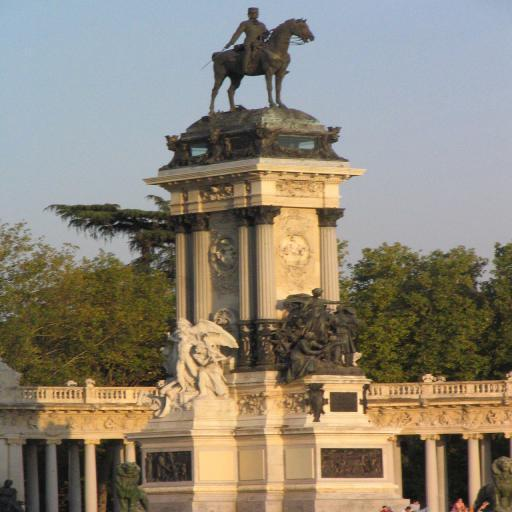horse: (206, 14, 316, 116)
